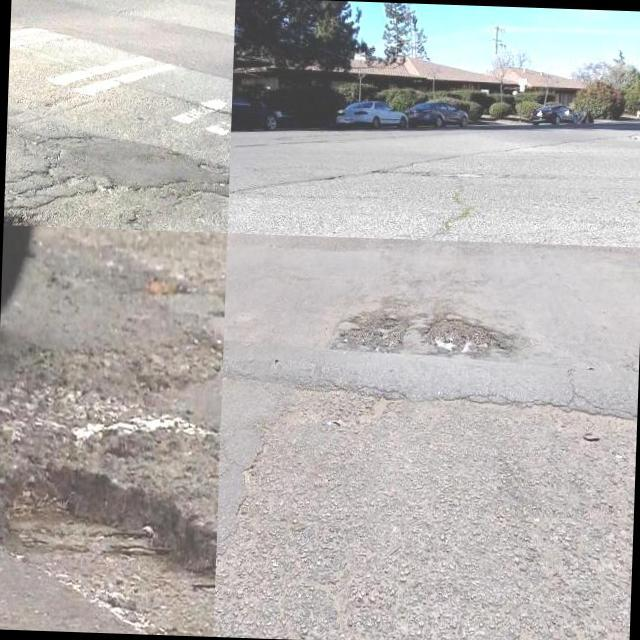Pothole: (0, 457, 217, 636), (427, 314, 504, 364), (338, 314, 404, 353)
